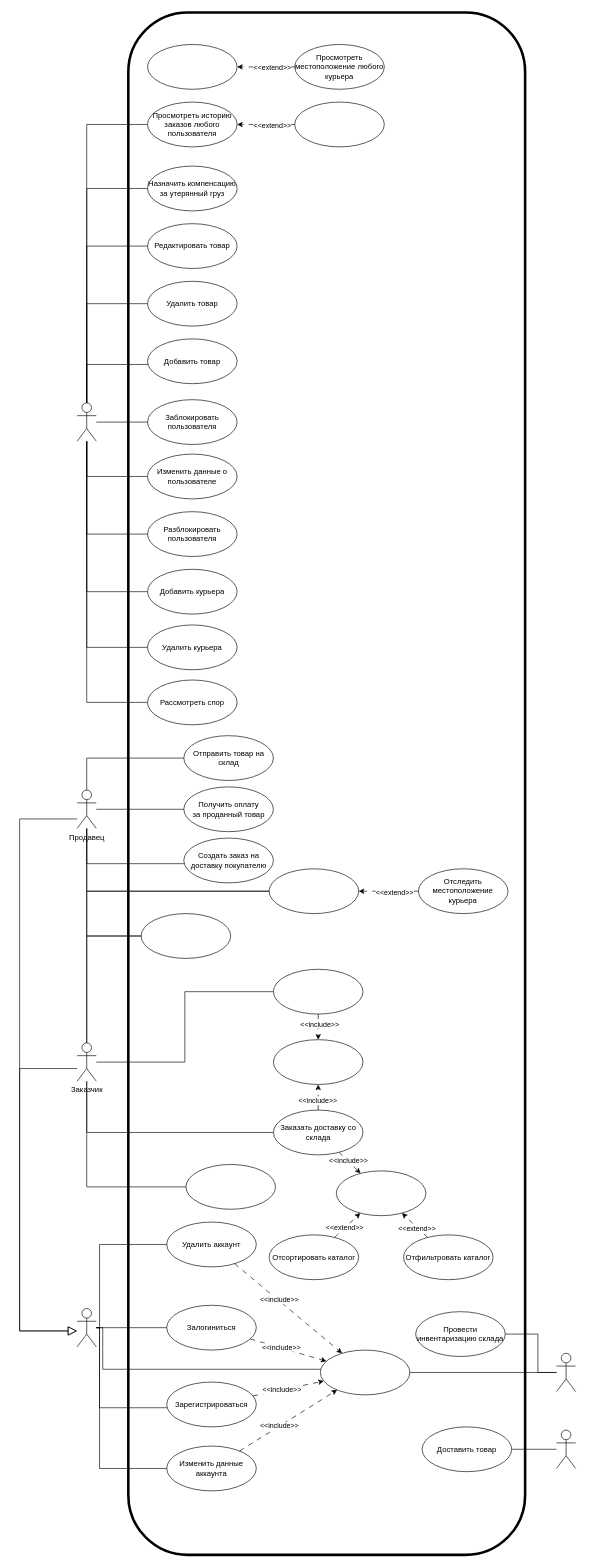
This 598x1567 diagram has some shape labels left out. Each missing label, with the box of its shape:
Администратор: (76, 402, 96, 441)
Выбрать товар в каталоге: (336, 1170, 426, 1216)
Курьер: (556, 1429, 576, 1468)
Оплатить заказ: (273, 1039, 363, 1084)
Открыть спор: (140, 913, 231, 958)
Отследить состояние посылки: (268, 868, 359, 914)
Подтвердить действие при помощи Minecraft аккаунта: (320, 1349, 410, 1395)
подтвердить получение груза: (185, 1164, 276, 1209)
Подтвердить сформированный продавцом заказ: (273, 969, 363, 1014)
Пользователь: (76, 1308, 96, 1347)
Просмотреть состояние заказа любого пользователя: (294, 101, 384, 147)
Просмотреть состояние любого курьера: (147, 44, 237, 89)
Супервизор: (556, 1353, 576, 1392)
